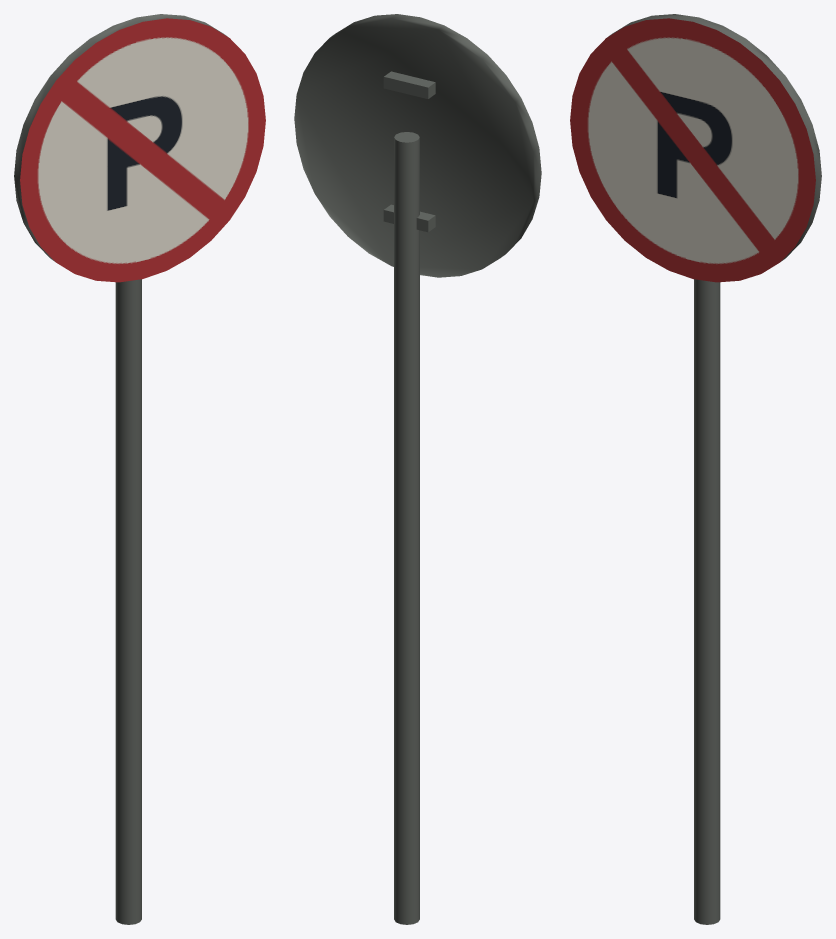
File: MS_SG_05_NoParking.glb
3 views of the same model, side by side, from view 1: azimuth 30°, elevation 25°; view 2: azimuth 150°, elevation 25°; view 3: azimuth 330°, elevation 25° (orthographic).
Parts seen in each view (by area): view 1: SignFace, _MeshInstance3D_30, _MeshInstance3D_32; view 2: _MeshInstance3D_32, _MeshInstance3D_30, _MeshInstance3D_34, _MeshInstance3D_33; view 3: SignFace, _MeshInstance3D_30, _MeshInstance3D_32.
Boxes of the visible parts, bbox=[...] form: SignFace: bbox=[20, 18, 265, 282]; _MeshInstance3D_30: bbox=[115, 279, 141, 924]; _MeshInstance3D_32: bbox=[14, 14, 227, 261]; _MeshInstance3D_32: bbox=[294, 14, 541, 277]; _MeshInstance3D_30: bbox=[394, 132, 419, 924]; _MeshInstance3D_34: bbox=[383, 71, 435, 98]; _MeshInstance3D_33: bbox=[383, 204, 435, 232]; SignFace: bbox=[570, 18, 815, 282]; _MeshInstance3D_30: bbox=[694, 279, 720, 924]; _MeshInstance3D_32: bbox=[608, 14, 821, 261].
Bounding box in the file's own units: 0.7594 × 2.68 × 0.111.
Materials: 2 (1 with a texture image).
